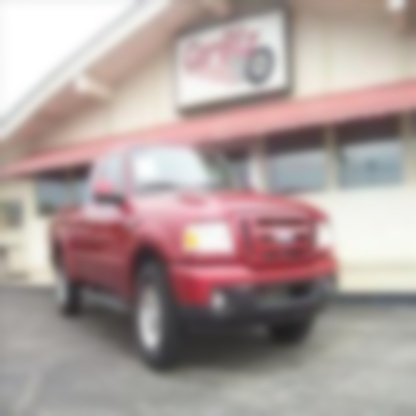Vehicle: (47, 137, 345, 371)
